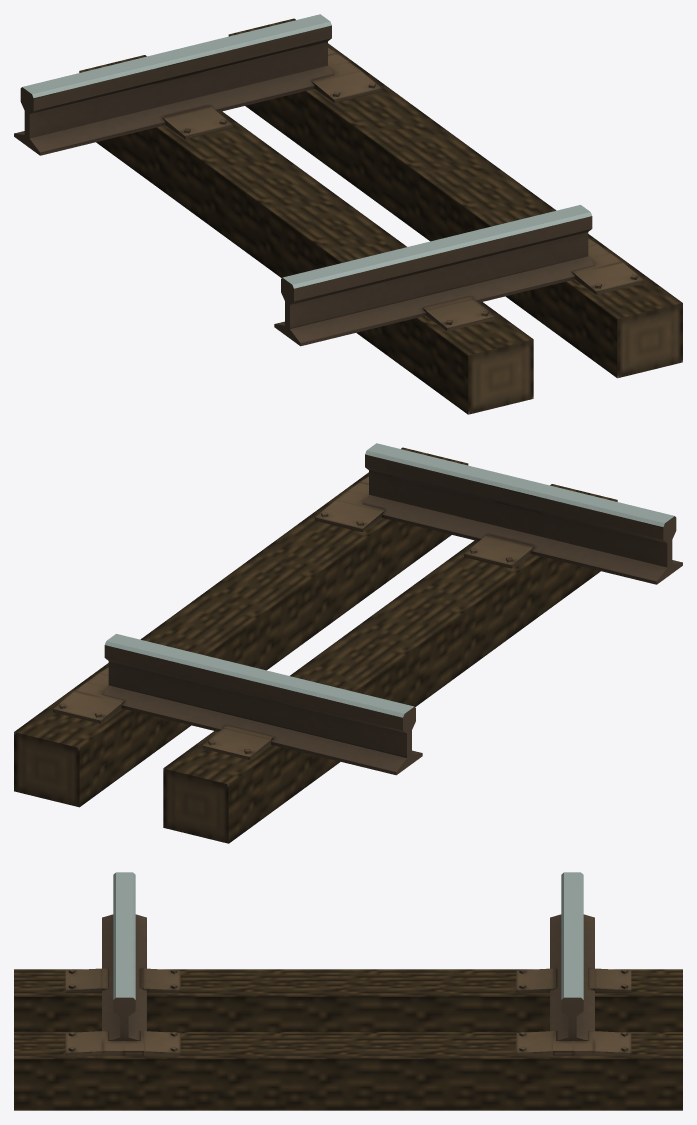
Rendered from spsf_tracks.obj.
3 views of the same model, one above another, from view 1: azimuth 30°, elevation 25°; view 2: azimuth 150°, elevation 25°; view 3: azimuth 270°, elevation 25° (orthographic). The views are drawn at different scales.
Visible parts, largest first — view 1: RAIL_BASE.002_RAIL_BASE.007, RAIL_RIGHT_Cube.010, RAIL_LEFT_Cube.002, RAIL_BASE.003_Cube.003; view 2: RAIL_BASE.002_RAIL_BASE.007, RAIL_LEFT_Cube.002, RAIL_RIGHT_Cube.010, RAIL_BASE.003_Cube.003; view 3: RAIL_BASE.002_RAIL_BASE.007, RAIL_BASE.003_Cube.003, RAIL_LEFT_Cube.002, RAIL_RIGHT_Cube.010.
Boxes of the visible parts, x1,y1,x2,y2 form: RAIL_BASE.002_RAIL_BASE.007: (79, 18, 682, 414); RAIL_RIGHT_Cube.010: (14, 14, 334, 155); RAIL_LEFT_Cube.002: (274, 205, 594, 346); RAIL_BASE.003_Cube.003: (162, 47, 643, 331); RAIL_BASE.002_RAIL_BASE.007: (14, 447, 617, 843); RAIL_LEFT_Cube.002: (362, 443, 682, 584); RAIL_RIGHT_Cube.010: (102, 634, 422, 775); RAIL_BASE.003_Cube.003: (53, 476, 534, 760); RAIL_BASE.002_RAIL_BASE.007: (14, 969, 682, 1110); RAIL_BASE.003_Cube.003: (65, 968, 631, 1055); RAIL_LEFT_Cube.002: (102, 872, 146, 1040); RAIL_RIGHT_Cube.010: (550, 872, 594, 1040).
Size of the model in its own units: 1.11 by 0.3683 by 2.26.
Materials: 1 (1 with a texture image).
